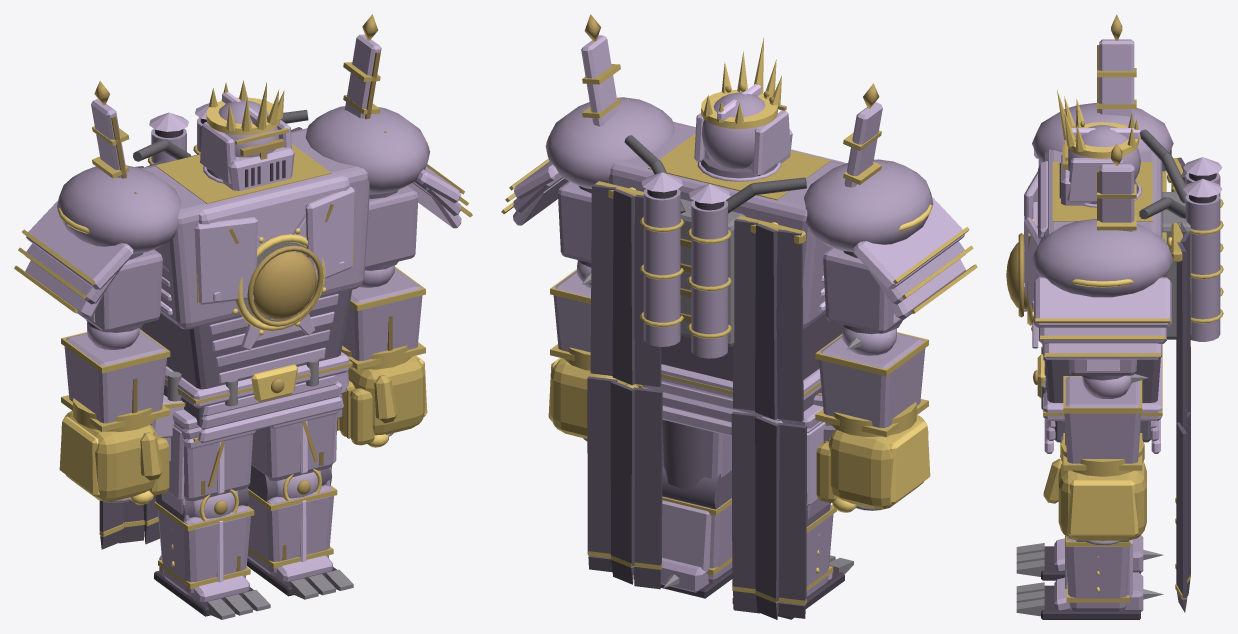
File: warden.glb
The picture shows the model from 3 angles, left to right: view 1: azimuth 30°, elevation 25°; view 2: azimuth 150°, elevation 25°; view 3: azimuth 270°, elevation 25°; orthographic projection. The views are drawn at different scales.
Parts seen in each view (by area): view 1: warden*1.041, warden*1.077, warden*1.069, warden*1.084, warden*0.006, warden*1.019, warden*1.044, warden*1.076, warden*1.006, warden*1.082, warden*1.042, warden*1.25 (+48 smaller); view 2: warden*1.077, warden*1.069, warden*1.084, warden*1.041, warden*1.060, warden*1.062, warden*0.033, warden*0.018, warden*0.034, gold*0.046, warden*0.031, warden*0.021 (+43 smaller); view 3: warden*1.069, warden*1.076, warden*1.070, warden*1.060, gold.025, warden*1.006, warden*1.077, warden*1.081, gold*0.032, warden*0.025, warden*1.073, warden*0.024 (+47 smaller).
Boxes of the visible parts, x1=… form: warden*1.041: x1=142, y1=128, x2=369, y2=329; warden*1.077: x1=57, y1=165, x2=181, y2=253; warden*1.069: x1=305, y1=106, x2=429, y2=194; warden*1.084: x1=64, y1=331, x2=166, y2=423; warden*0.006: x1=142, y1=289, x2=352, y2=389; warden*1.019: x1=158, y1=505, x2=250, y2=596; warden*1.044: x1=194, y1=217, x2=258, y2=304; warden*1.076: x1=342, y1=268, x2=422, y2=360; warden*1.006: x1=247, y1=485, x2=333, y2=576; warden*1.082: x1=77, y1=249, x2=162, y2=332; warden*1.042: x1=199, y1=175, x2=349, y2=241; warden*1.25: x1=251, y1=414, x2=336, y2=481; warden*1.077: x1=804, y1=159, x2=933, y2=251; warden*1.069: x1=545, y1=97, x2=674, y2=188; warden*1.084: x1=819, y1=333, x2=925, y2=427; warden*1.041: x1=608, y1=121, x2=844, y2=329; warden*1.060: x1=643, y1=189, x2=680, y2=346; warden*1.062: x1=691, y1=200, x2=727, y2=358; warden*0.033: x1=776, y1=229, x2=803, y2=421; warden*0.018: x1=633, y1=387, x2=662, y2=565; warden*0.034: x1=778, y1=422, x2=806, y2=600; gold*0.046: x1=828, y1=415, x2=928, y2=509; warden*0.031: x1=755, y1=416, x2=779, y2=601; warden*0.021: x1=610, y1=381, x2=635, y2=566; warden*1.069: x1=1032, y1=219, x2=1173, y2=297; warden*1.076: x1=1064, y1=376, x2=1141, y2=463; warden*1.070: x1=1034, y1=277, x2=1171, y2=327; warden*1.060: x1=1185, y1=194, x2=1220, y2=341; gold.025: x1=1067, y1=480, x2=1138, y2=536; warden*1.006: x1=1065, y1=536, x2=1129, y2=611; warden*1.077: x1=1032, y1=103, x2=1173, y2=164; warden*1.081: x1=1099, y1=39, x2=1134, y2=116; gold*0.032: x1=1058, y1=462, x2=1146, y2=540; warden*0.025: x1=1176, y1=422, x2=1187, y2=598; warden*1.073: x1=1099, y1=164, x2=1134, y2=231; warden*0.024: x1=1176, y1=242, x2=1187, y2=427.
Size of the model in its own units: 3.84 by 4.83 by 1.87.
